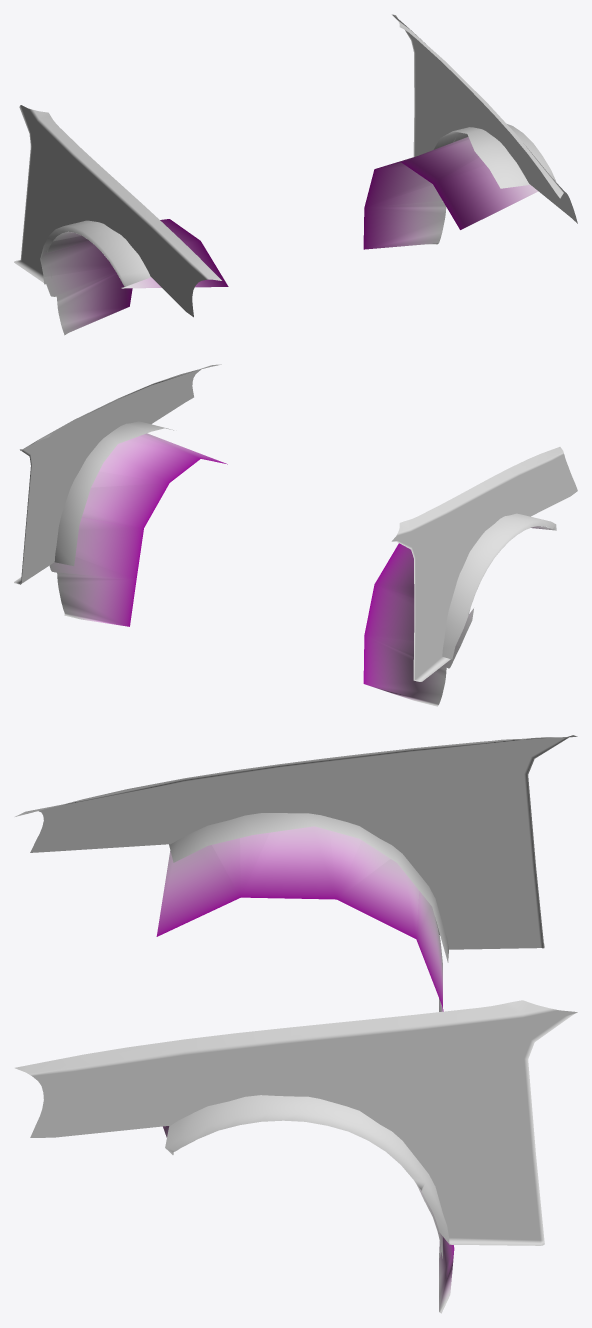
File: Car_Nissan_SkylineGTRVspecR34_1999_FendersChassisF_SetE_AltC.fbx
3 views of the same model, one above another, from view 1: azimuth 30°, elevation 25°; view 2: azimuth 150°, elevation 25°; view 3: azimuth 270°, elevation 25° (orthographic). The views are drawn at different scales.
Visible parts, largest first — view 1: FendersChassisF 5; view 2: FendersChassisF 5; view 3: FendersChassisF 5.
Boxes of the visible parts, x1,y1,x2,y2 form: FendersChassisF 5: (14, 14, 577, 335); FendersChassisF 5: (14, 364, 577, 706); FendersChassisF 5: (15, 735, 577, 1313).
Bounding box in the file's own units: 1.76 × 0.7743 × 1.3.
